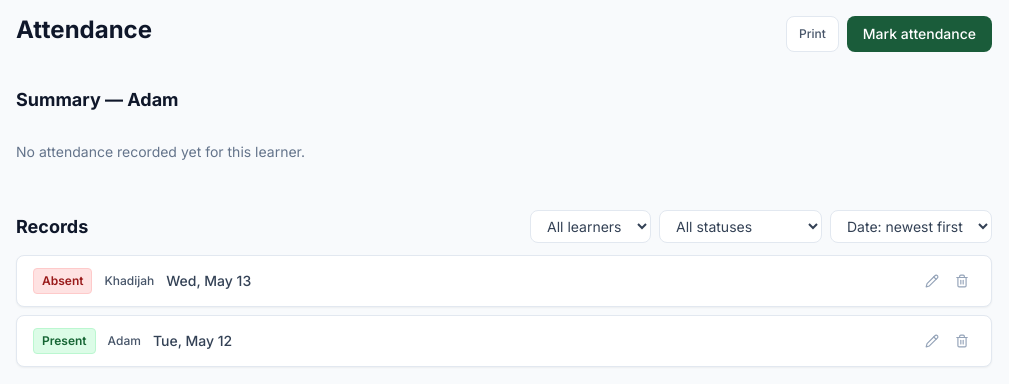
Test case: AttendancePage › filter by learner shows only that learner records
The image size is (1009, 384).
Expected: the number of buttons named "void record" is 2, [949,268,975,294]; [949,328,975,354]
Select "Khadijah" in the dropdown named "filter by learner" at (590, 226), box [530,210,651,243]
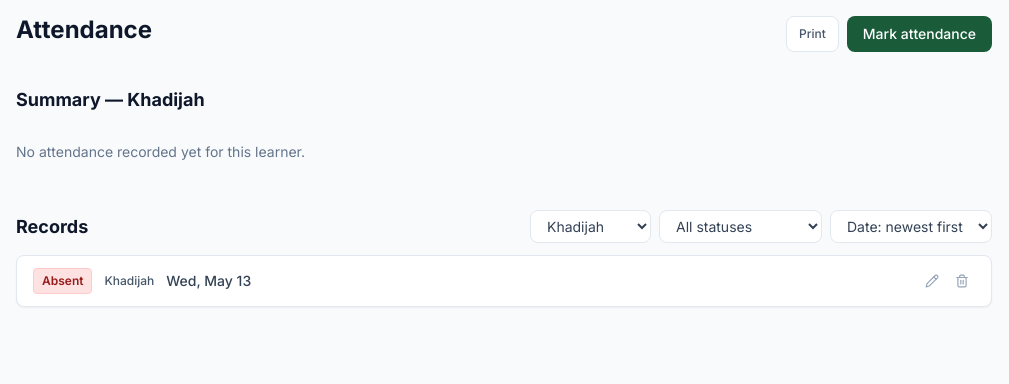
Expected: the number of buttons named "void record" is 1, [949,268,975,294]
